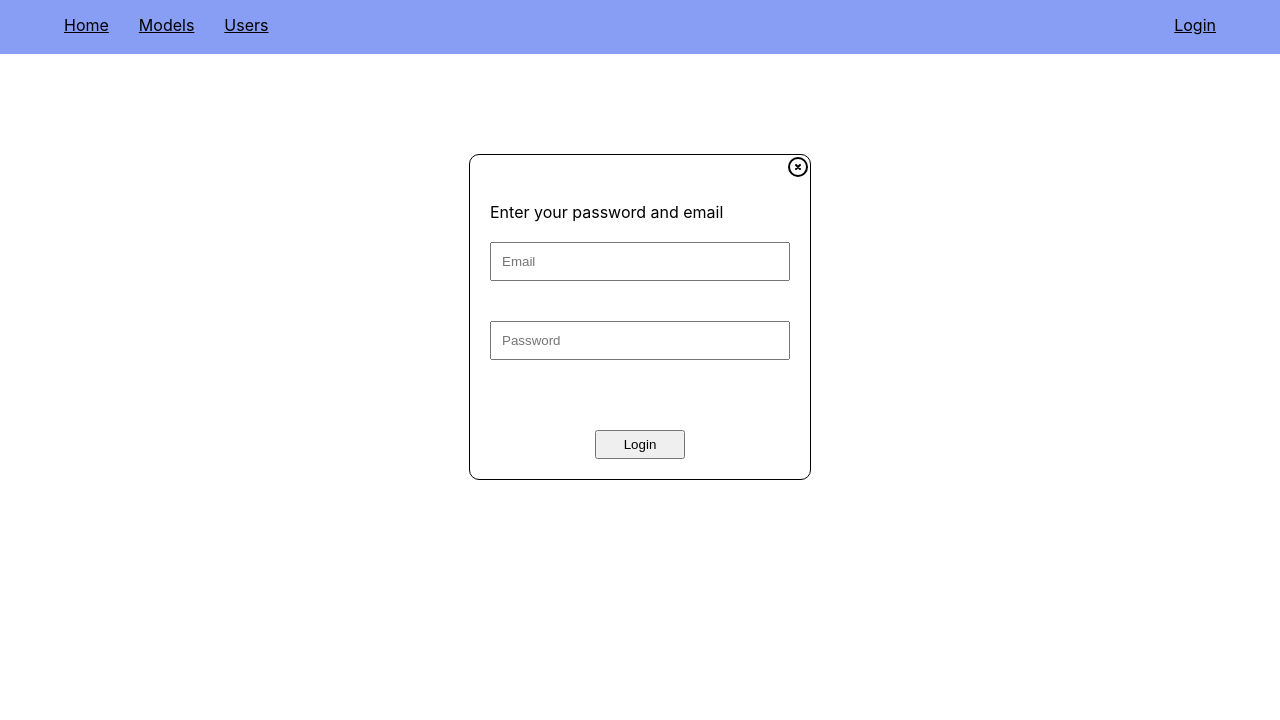
it: login page › invalid email, validation error should be displayed
Step 1. Type "email.gmail.com" into the field with placeholder "Email" → coordinates (640, 262), box 490,242 -> 790,281
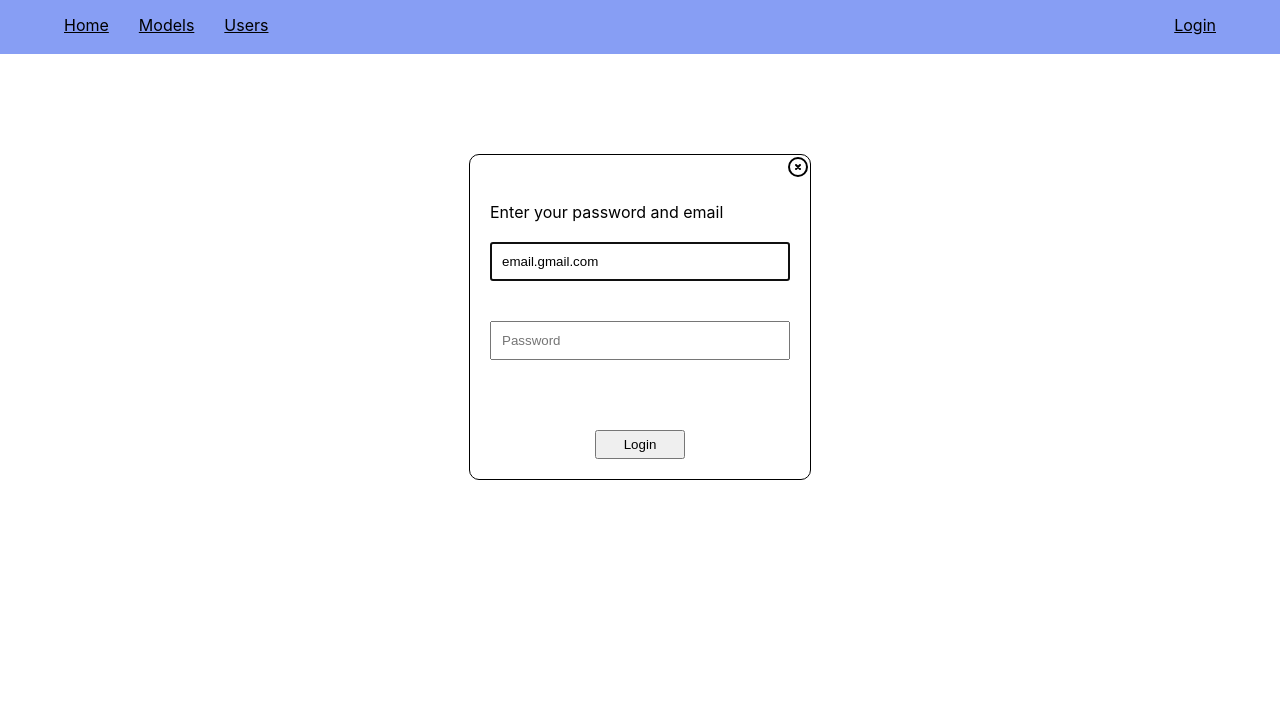
Step 2. Click the button "Login" → coordinates (640, 445), box 595,430 -> 685,459
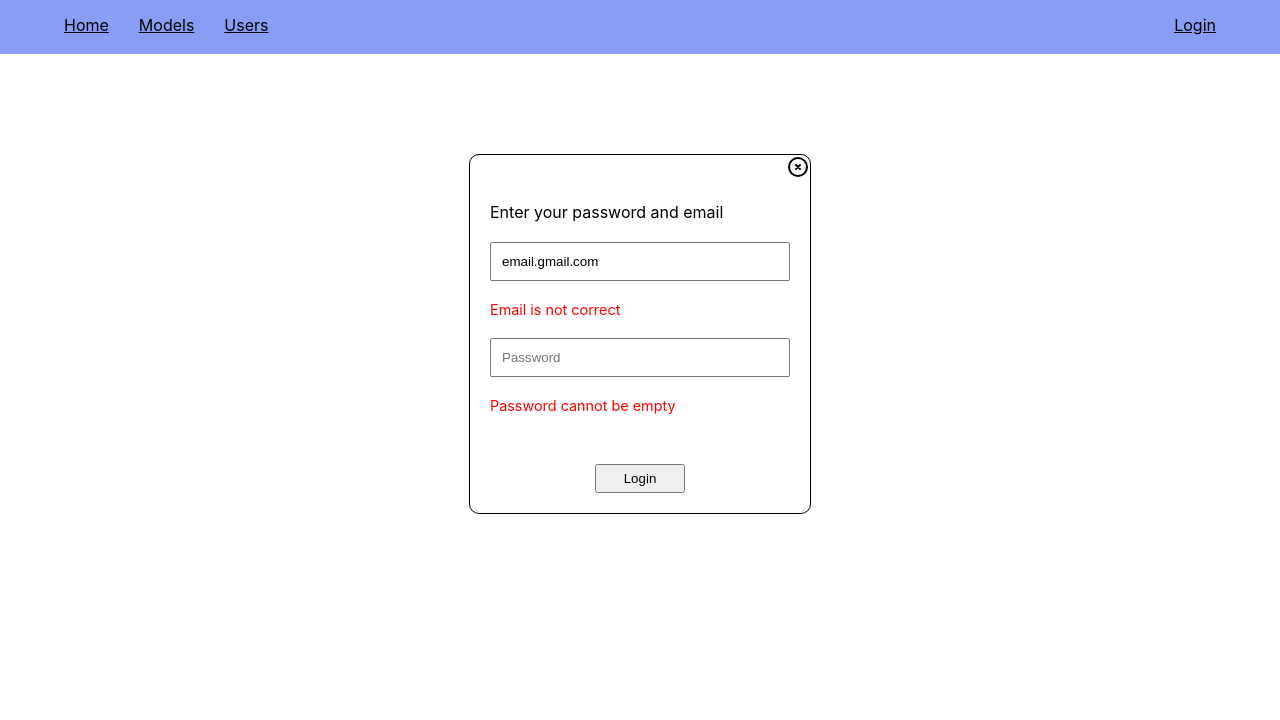
Result: the text "Email is not correct" is shown at 490,301 -> 620,318
